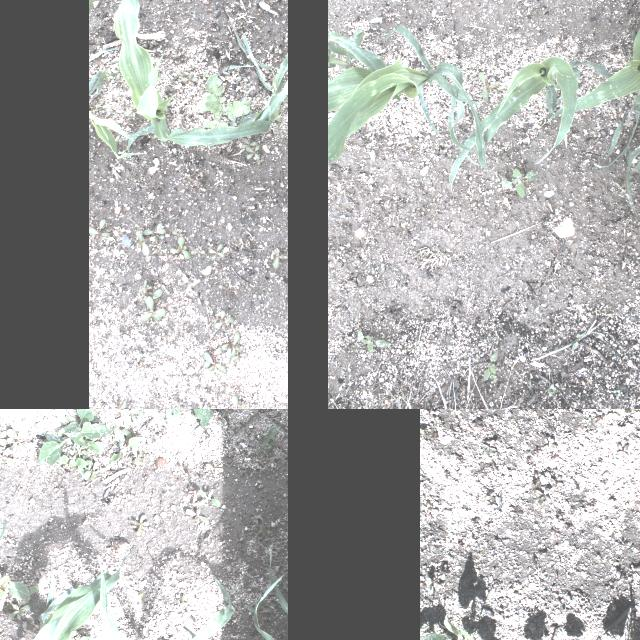crop: (88, 0, 288, 162), (328, 24, 484, 170), (448, 55, 580, 182), (546, 12, 640, 168), (8, 547, 141, 640), (76, 562, 233, 640), (253, 547, 288, 640), (622, 112, 640, 207), (0, 520, 5, 556)
weed: (38, 409, 110, 464), (198, 68, 252, 132), (76, 422, 104, 480), (108, 428, 146, 462), (0, 564, 28, 610), (165, 409, 225, 427), (499, 168, 537, 195), (355, 330, 393, 354), (164, 230, 193, 260), (138, 294, 166, 324), (219, 328, 245, 358), (134, 280, 166, 304), (477, 65, 498, 98), (480, 348, 500, 382), (246, 598, 272, 624), (200, 350, 230, 372), (6, 428, 30, 454), (266, 248, 288, 276), (256, 426, 276, 456), (213, 307, 237, 329), (134, 222, 148, 258), (89, 216, 111, 238), (243, 140, 263, 164), (142, 220, 168, 236), (130, 347, 142, 381), (208, 240, 225, 264), (198, 488, 220, 506), (56, 454, 86, 466), (8, 604, 30, 620), (254, 515, 270, 537), (570, 326, 584, 350), (186, 242, 204, 260), (0, 446, 13, 470), (134, 514, 148, 536), (186, 508, 208, 522), (112, 395, 133, 409), (230, 348, 248, 364), (229, 394, 246, 409), (125, 409, 142, 424), (238, 136, 256, 150), (24, 584, 38, 602), (85, 461, 99, 479), (131, 446, 145, 462), (145, 244, 157, 262), (205, 462, 222, 474), (612, 386, 626, 400), (0, 425, 7, 449), (279, 434, 288, 452), (546, 382, 556, 398), (65, 635, 90, 640), (138, 592, 148, 604), (122, 429, 134, 439), (74, 409, 98, 414), (180, 592, 188, 606), (252, 633, 268, 640), (66, 416, 80, 424), (96, 466, 106, 476), (117, 493, 127, 503), (252, 532, 262, 542), (124, 432, 130, 448), (222, 409, 232, 417), (158, 426, 166, 436), (81, 450, 87, 460), (164, 635, 174, 640), (0, 631, 5, 640), (19, 626, 25, 632)
